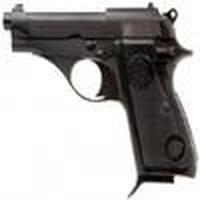gun: (2, 7, 200, 191)
